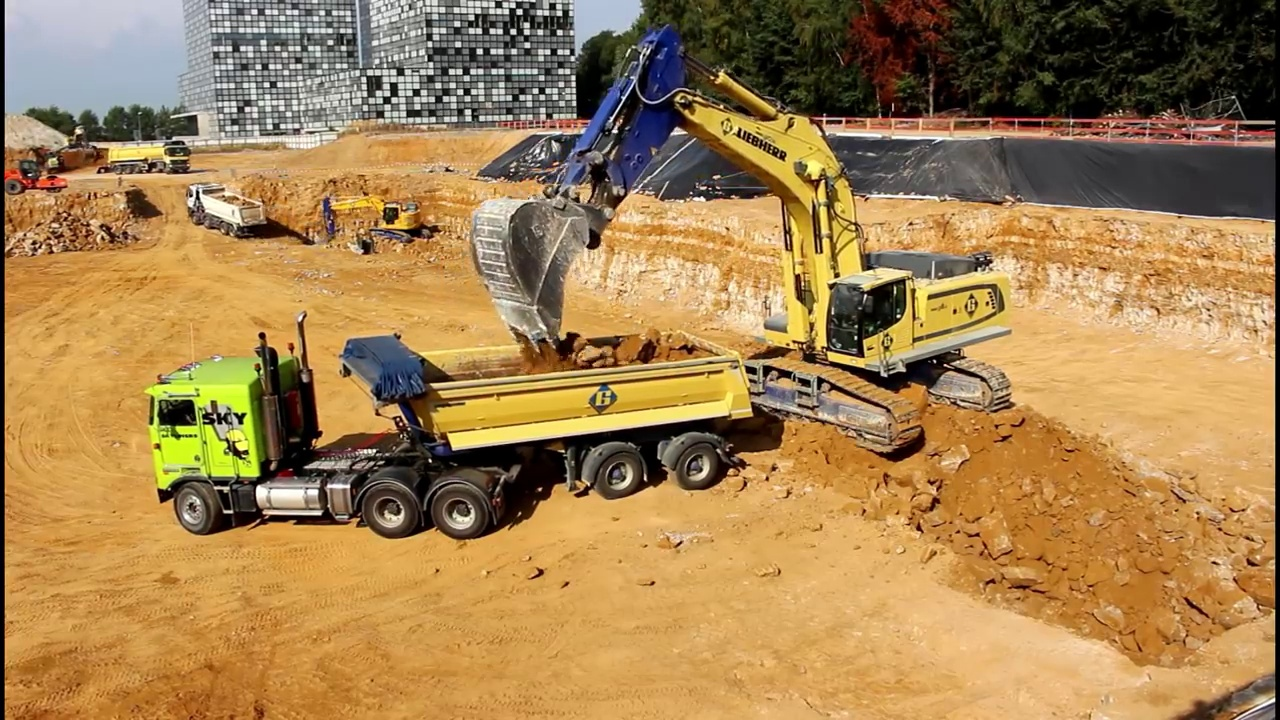compactor: (4, 155, 70, 200)
excavator: (468, 19, 1023, 462), (316, 186, 443, 259), (47, 117, 108, 178)
truck: (140, 303, 760, 545), (185, 175, 276, 247), (99, 131, 198, 178)
